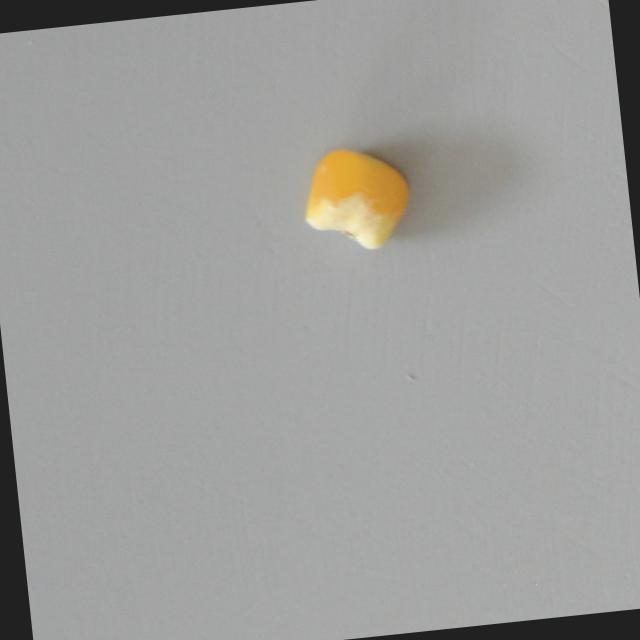punto_negro: (291, 140, 418, 260)
